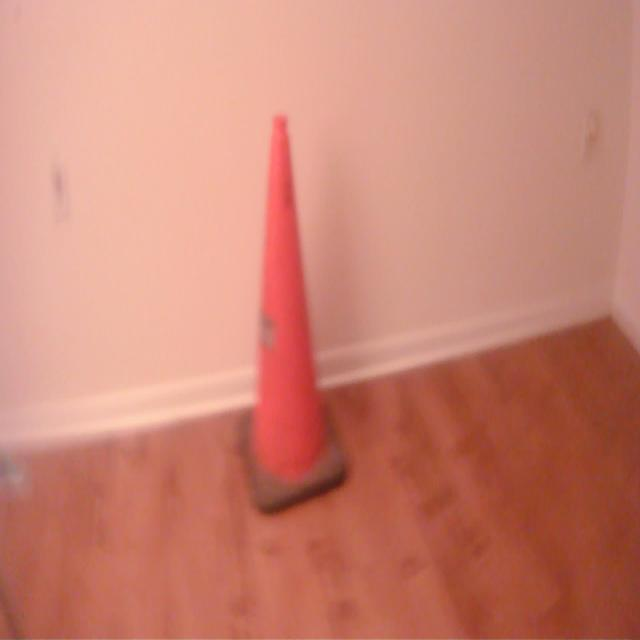traffic cone: (233, 110, 350, 521)
